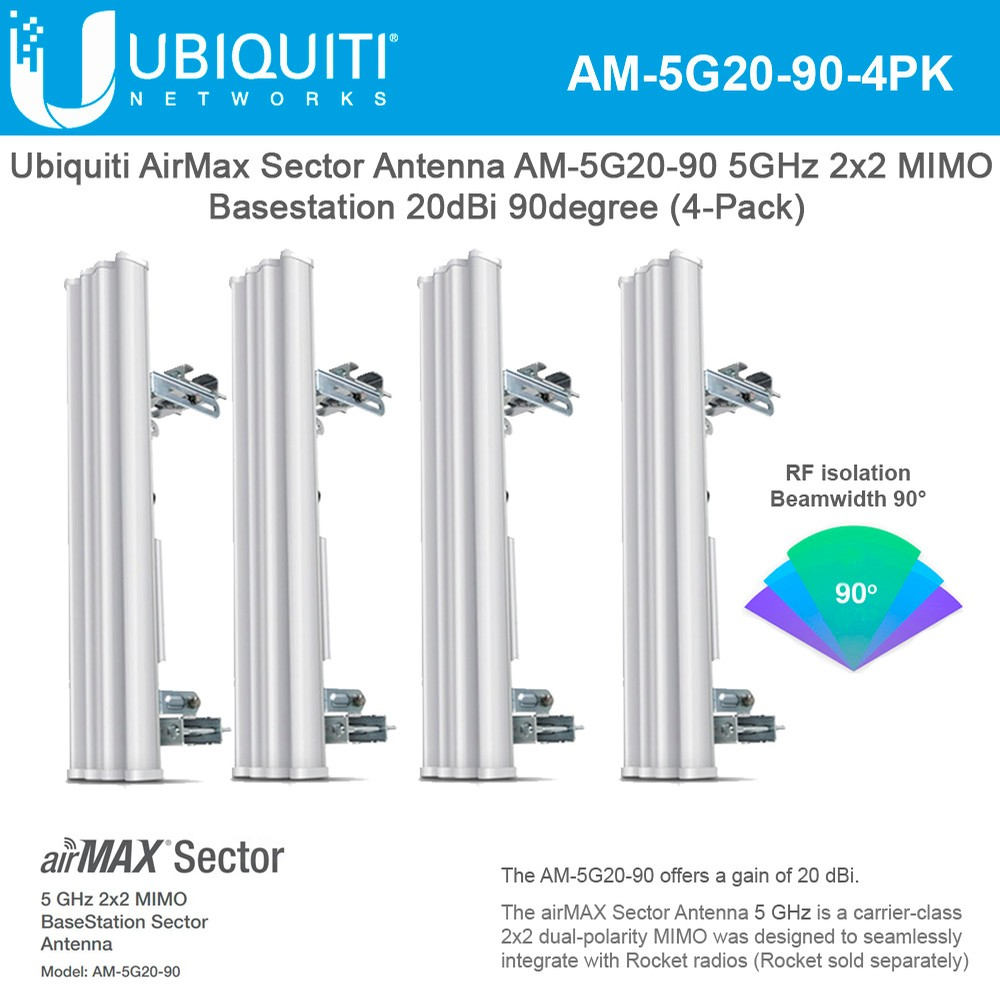sa: (46, 230, 204, 820)
